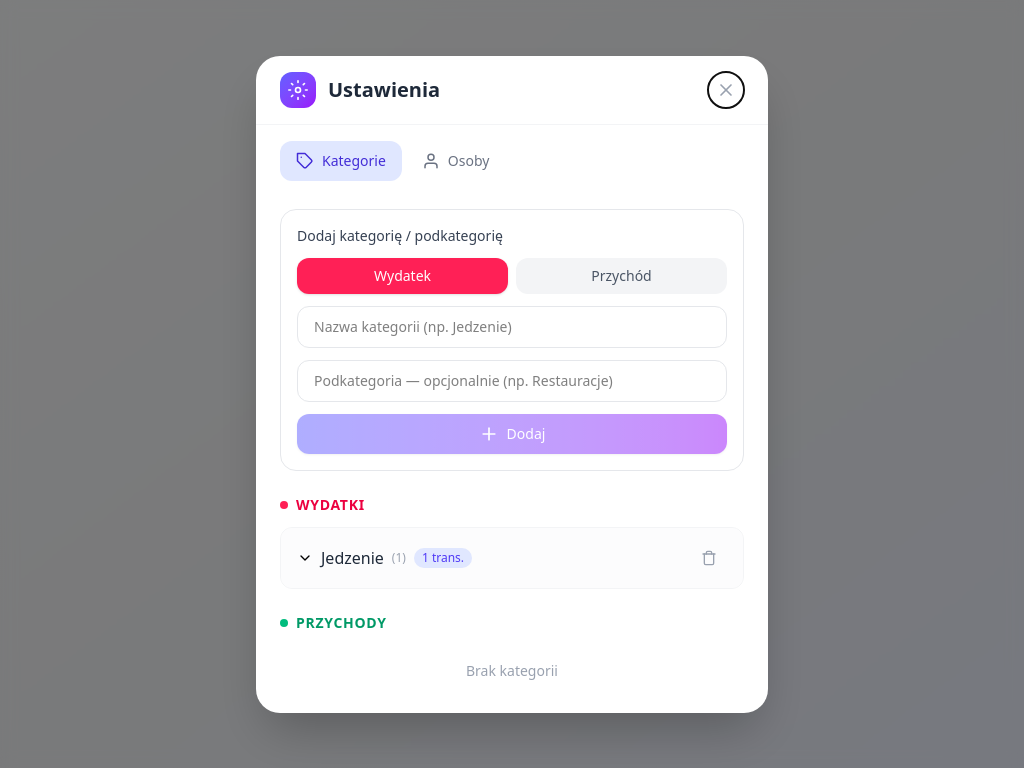
Scenario: SettingsPanel › nie dodaje istniejącej osoby
Click the button "Osoby" at (456, 160), box [406,140,505,180]
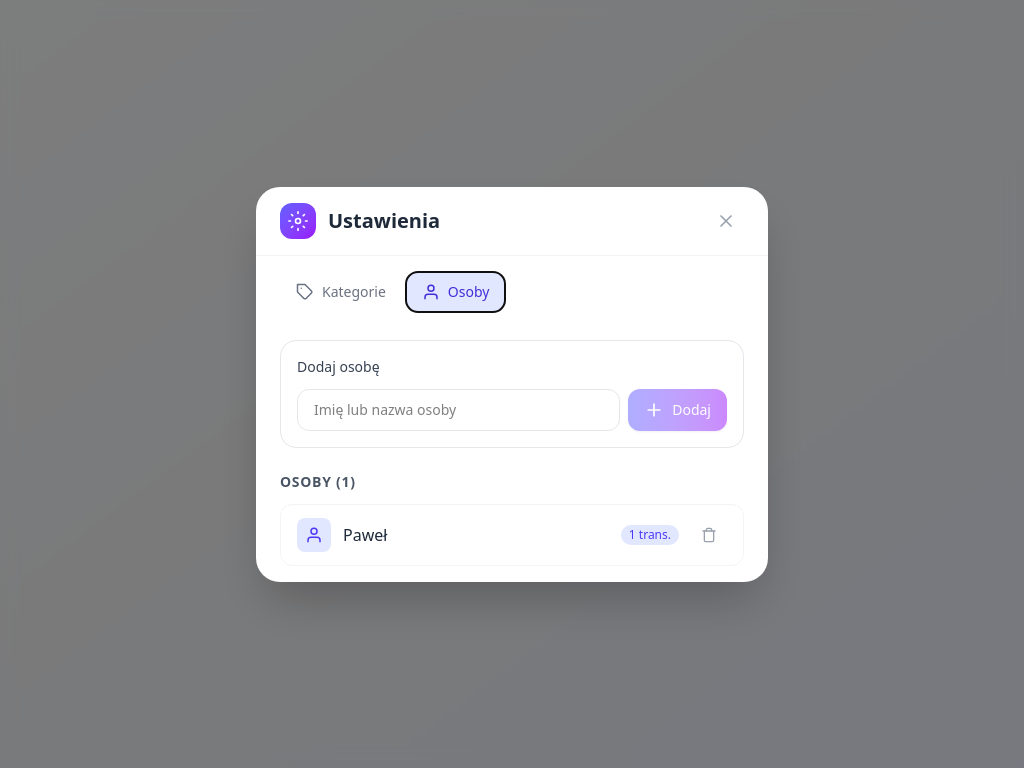
Type "Paweł" into the field with placeholder "Imię lub nazwa osoby" at (459, 410), box [297,388,620,430]
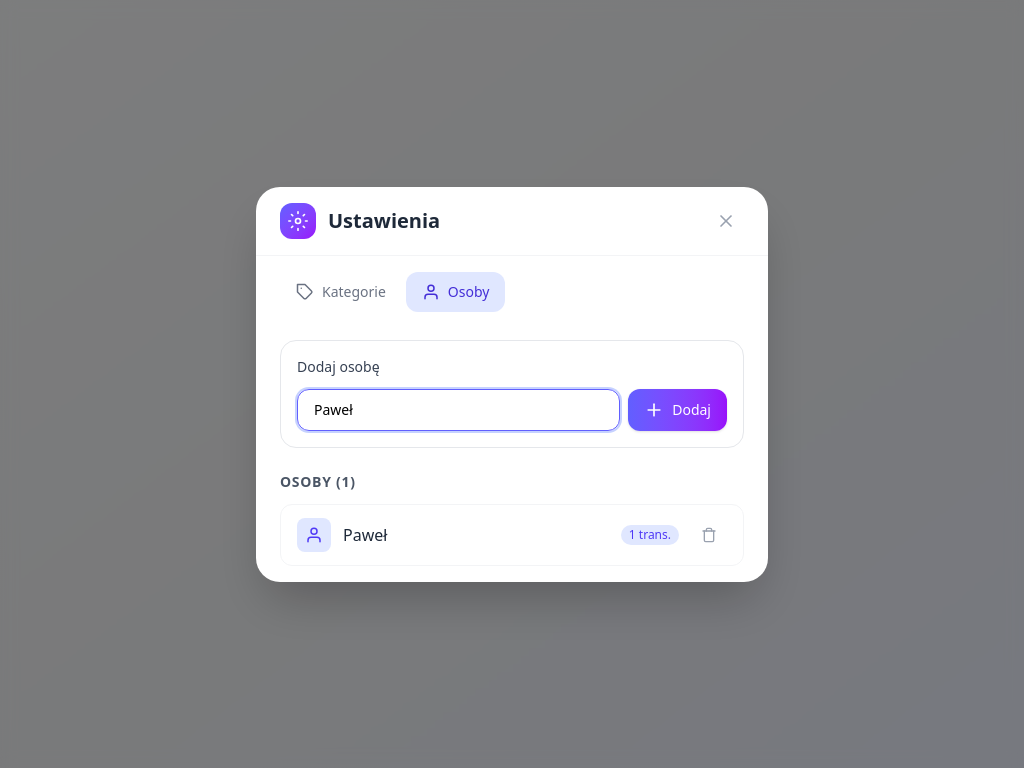
Press Enter
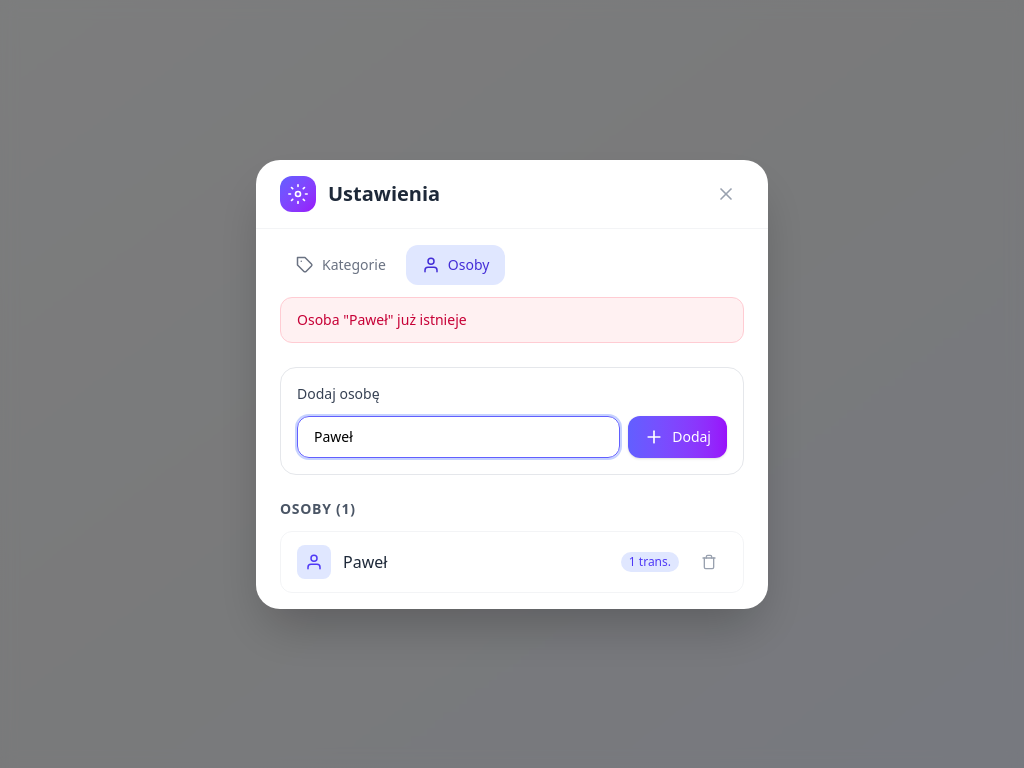
expect the text "Osoba \"Paweł\" już istnieje" is shown: met, box [280,296,744,342]
